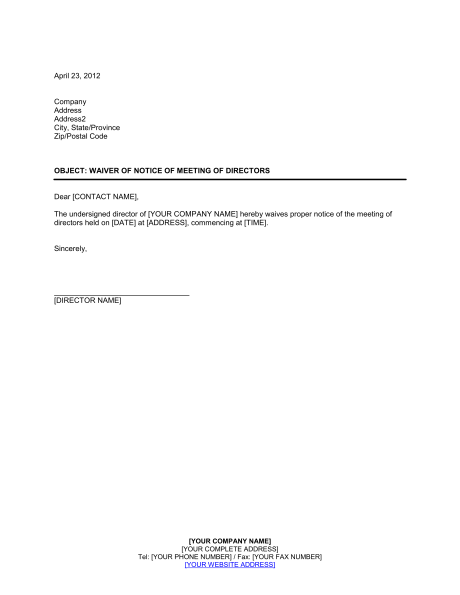textline: (49, 281, 196, 299)
